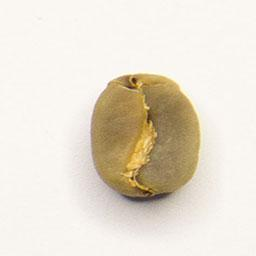premium: (87, 71, 204, 202)
